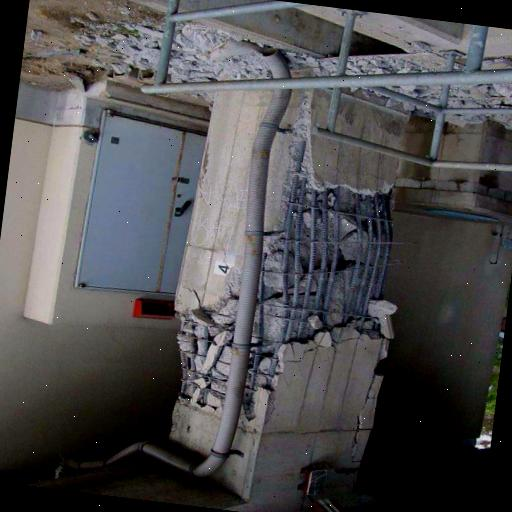spalling: (176, 143, 409, 431)
